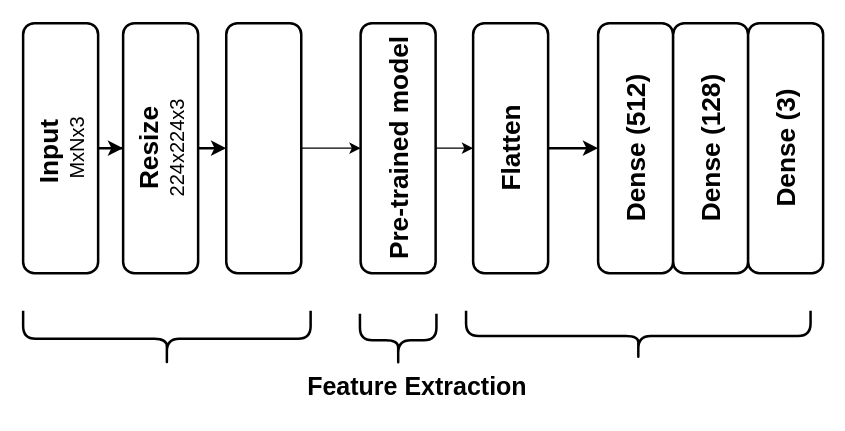
This 845x431 diagram has some shape labels left out. The shapes that lost their labels are listed below. From the top down, each one's centre as x and y in pixels, then its label:
At [263,147]: "Normalization".
At [166,338]: "Pre-processing".
At [637,335]: "Classification".
